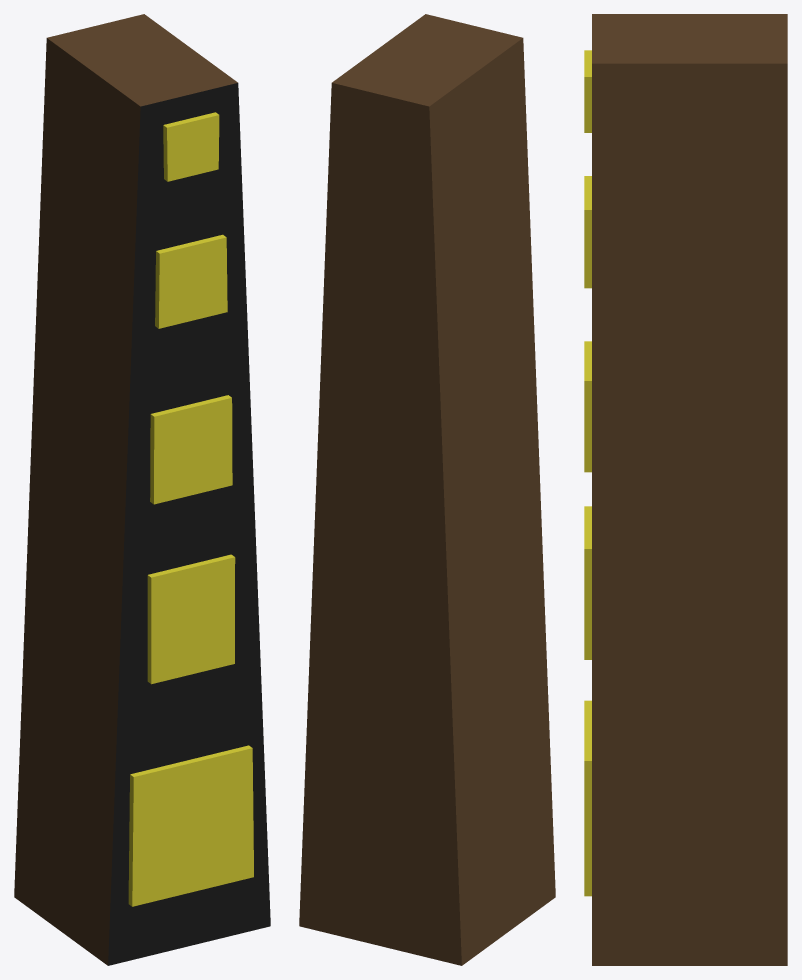
File: Musical_Column02.fbx
3 views of the same model, side by side, from view 1: azimuth 30°, elevation 25°; view 2: azimuth 150°, elevation 25°; view 3: azimuth 270°, elevation 25° (orthographic). The views are drawn at different scales.
Visible parts, largest first — view 1: Musical_Column02; view 2: Musical_Column02; view 3: Musical_Column02.
Part boxes in pixels (box(x1,y1,x2,y2)): Musical_Column02: box(14, 14, 270, 965); Musical_Column02: box(299, 14, 555, 965); Musical_Column02: box(584, 14, 787, 965).
Size of the model in its own units: 50 by 250 by 52.
